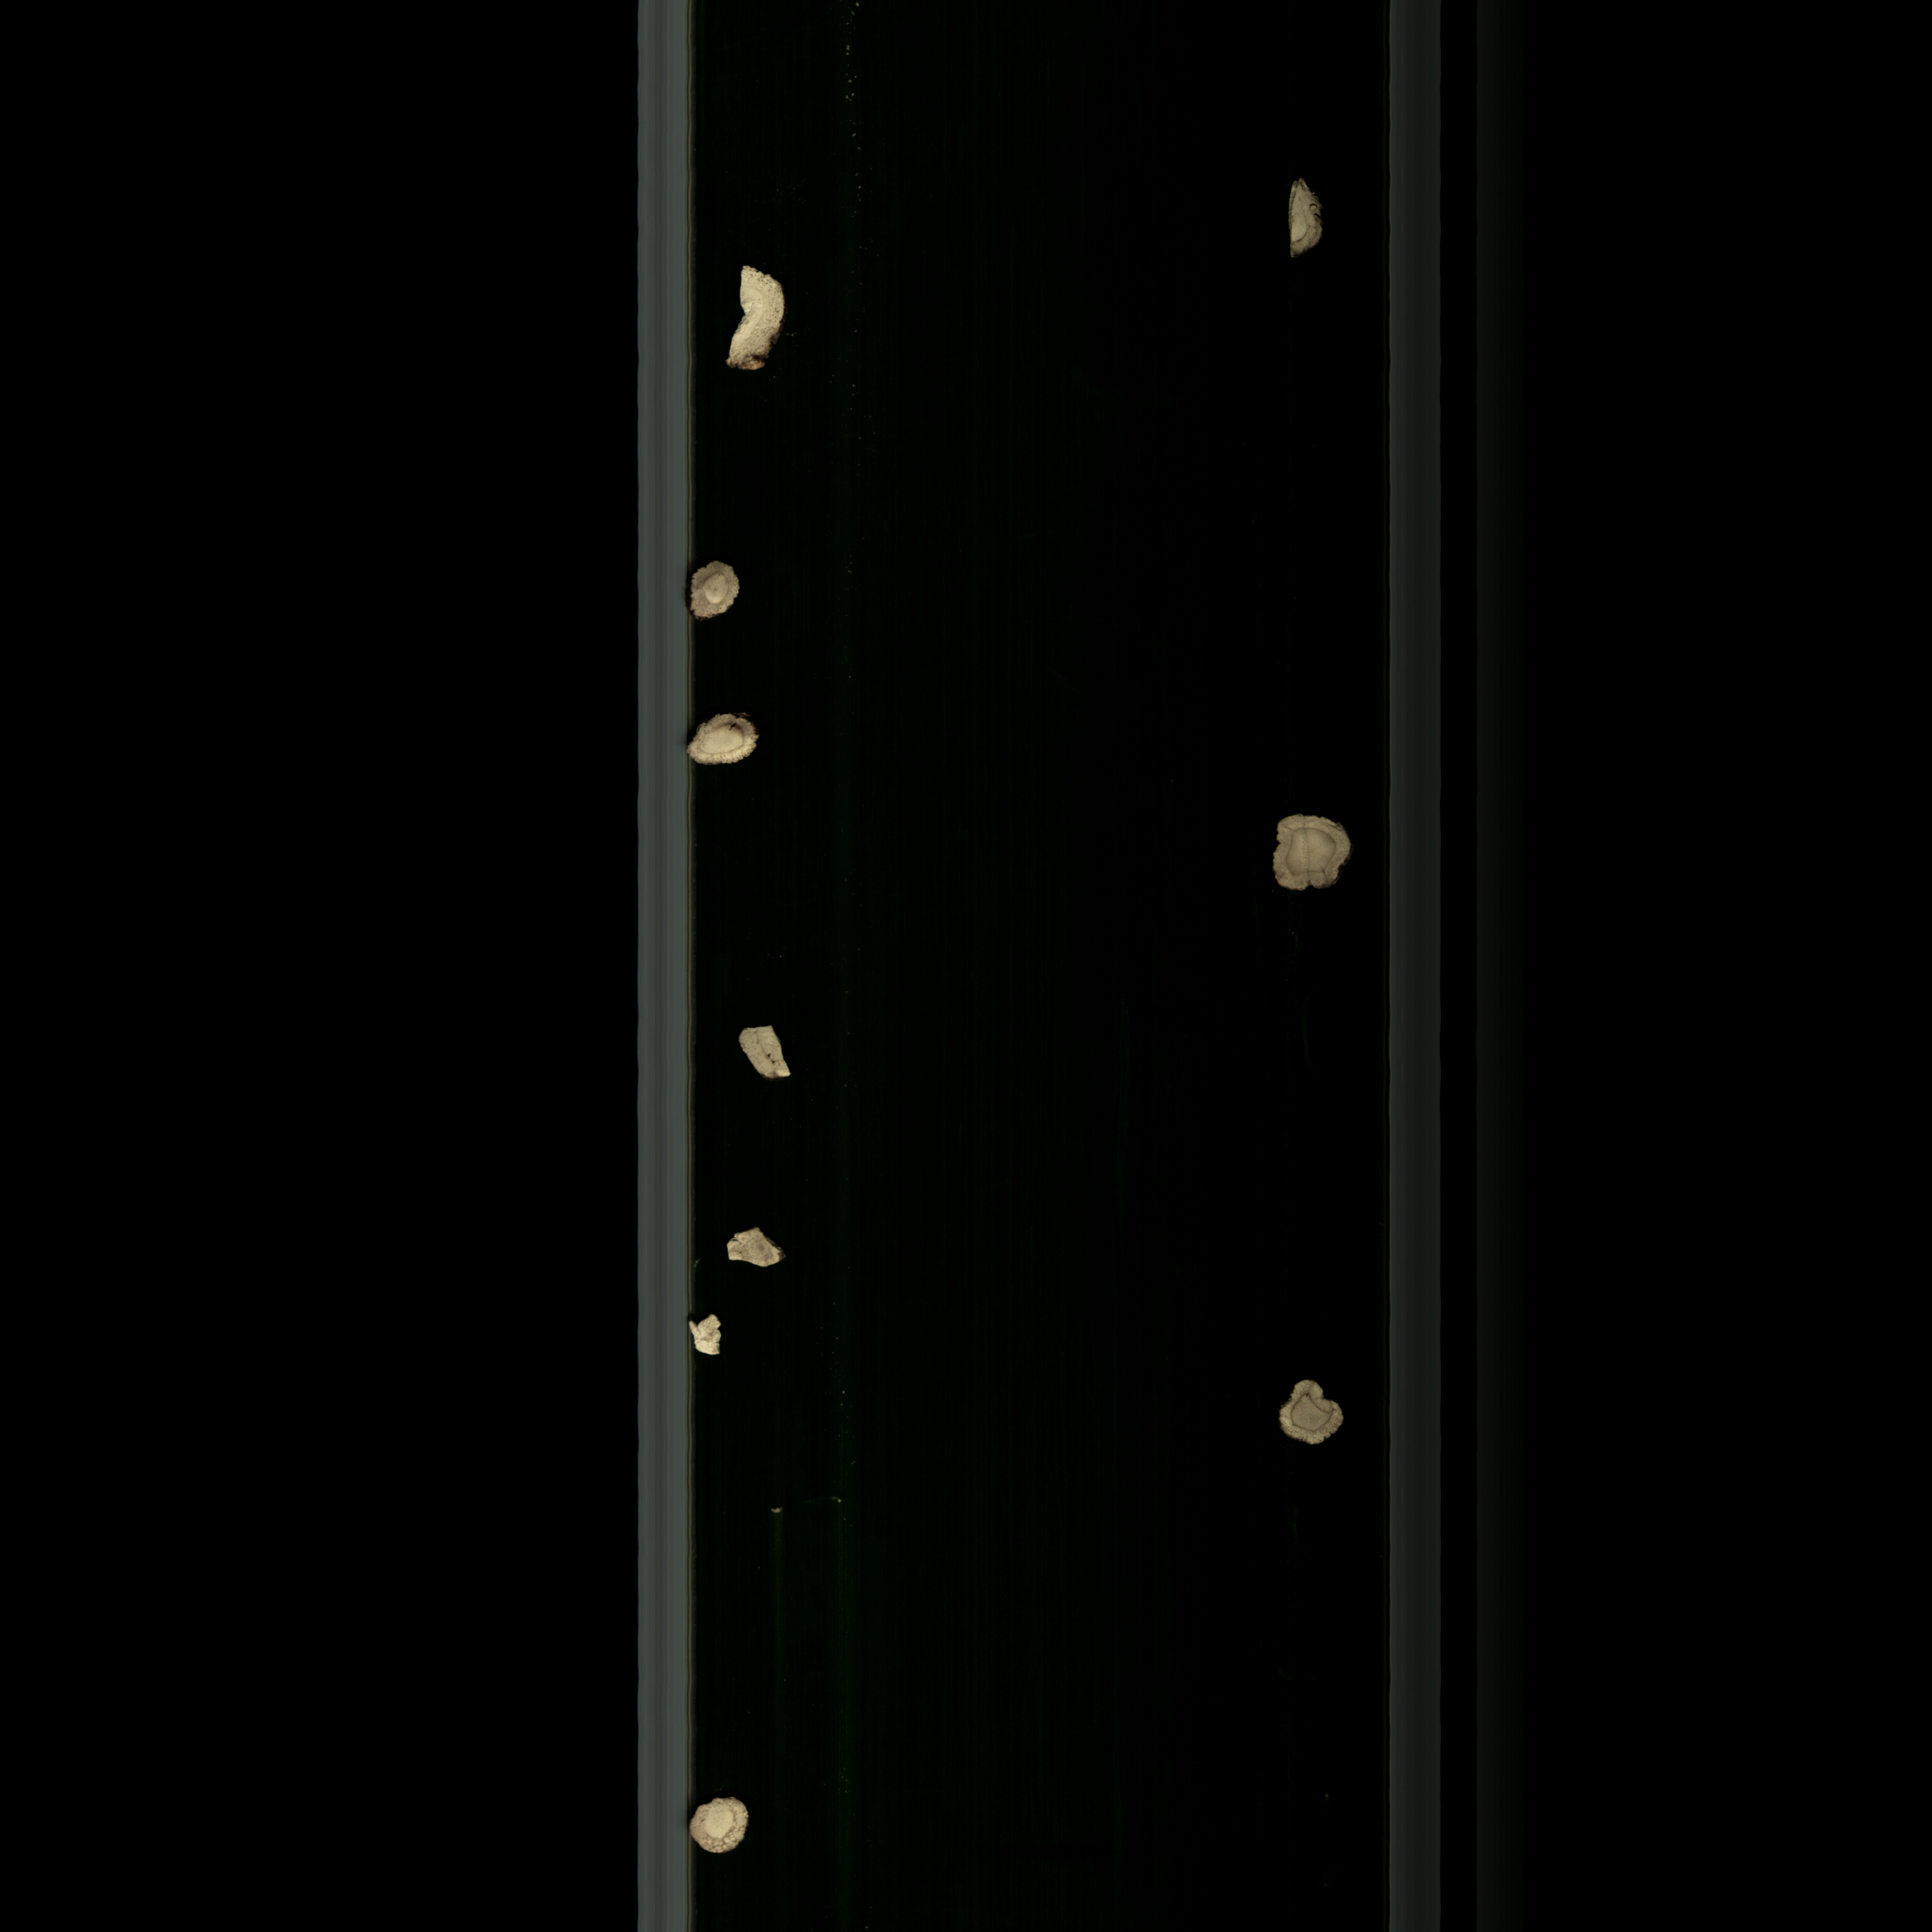debris: (729, 1016, 805, 1093), (679, 1790, 764, 1859)
distortion: (717, 253, 812, 384), (1267, 166, 1338, 271), (717, 1221, 800, 1276), (676, 1307, 738, 1366)
moldy: (1261, 800, 1352, 908), (1263, 1371, 1353, 1460), (685, 709, 775, 773), (679, 559, 752, 630)
